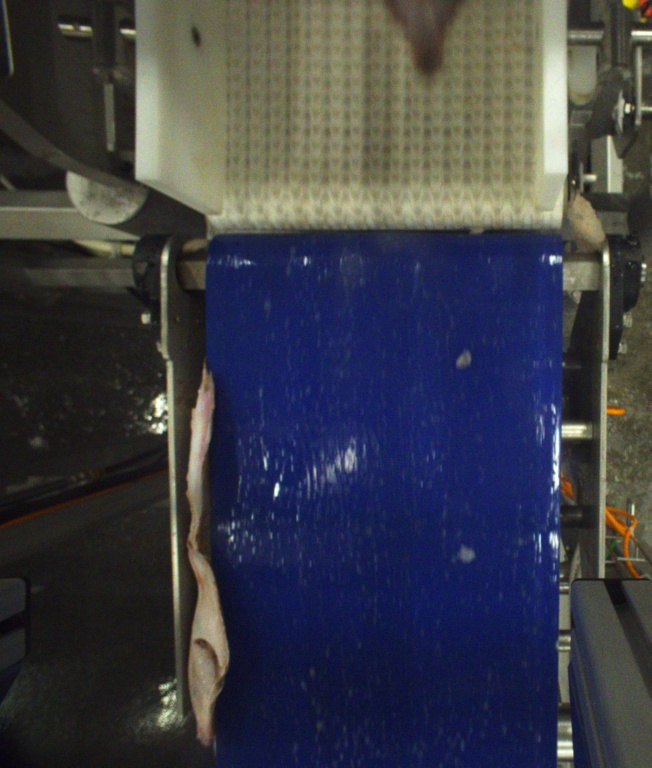SOL: (383, 0, 458, 84)
